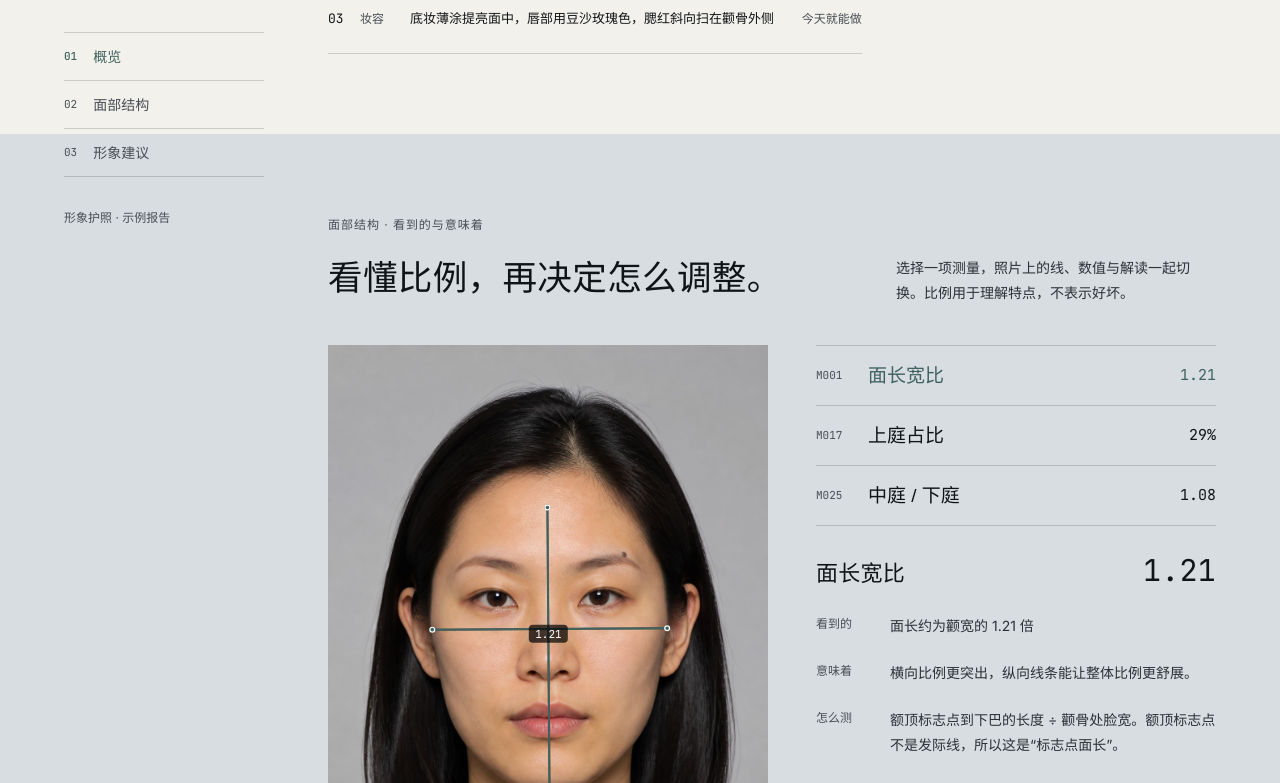
Test: S2 report slice critical path › switches the metric, native overlay and explanation together
(page scrolled)
Expected: the element with test id "selected-measurement" shows "1.21", [1143,550,1216,590]
Click the button "M017 上庭占比 29%": (906, 435) [816,406,1216,466]
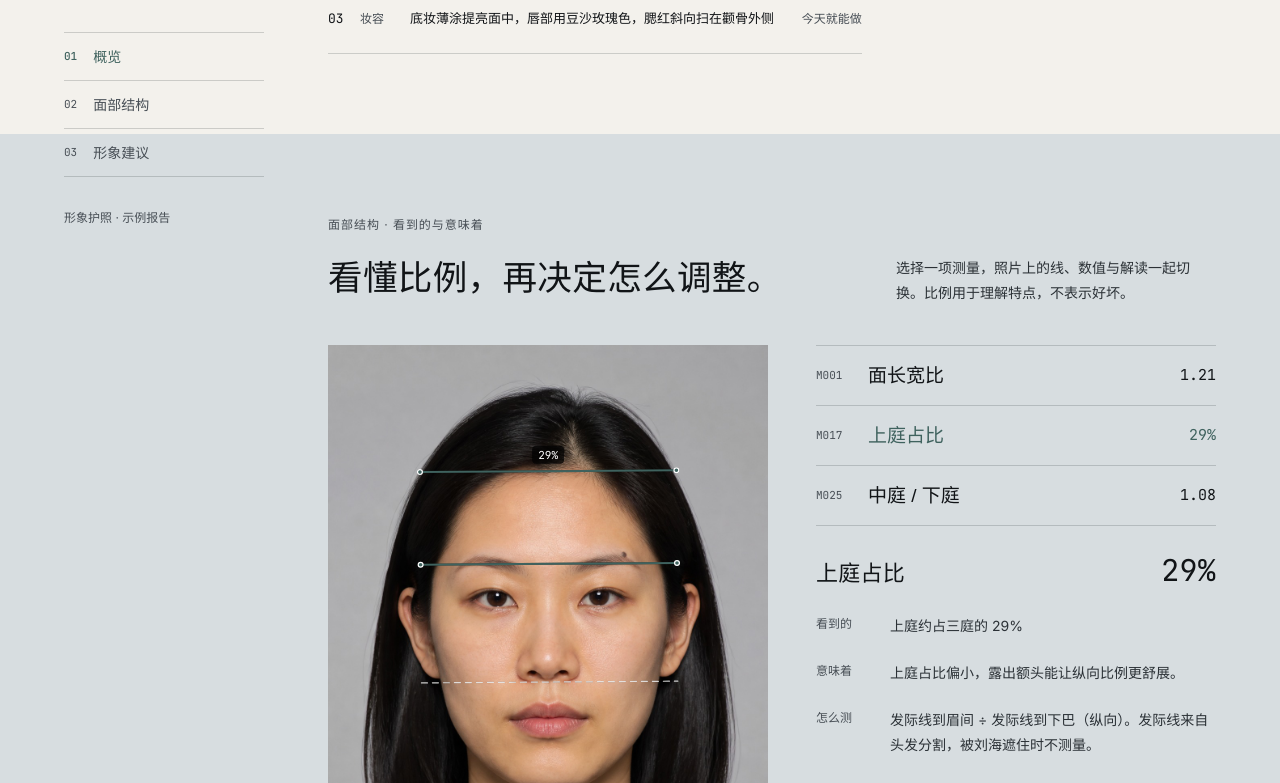
Expected: the element with test id "selected-measurement" shows "29%", [1161,550,1216,590]
Click the button "M025 中庭 / 下庭 1.08": (914, 495) [816,466,1216,526]
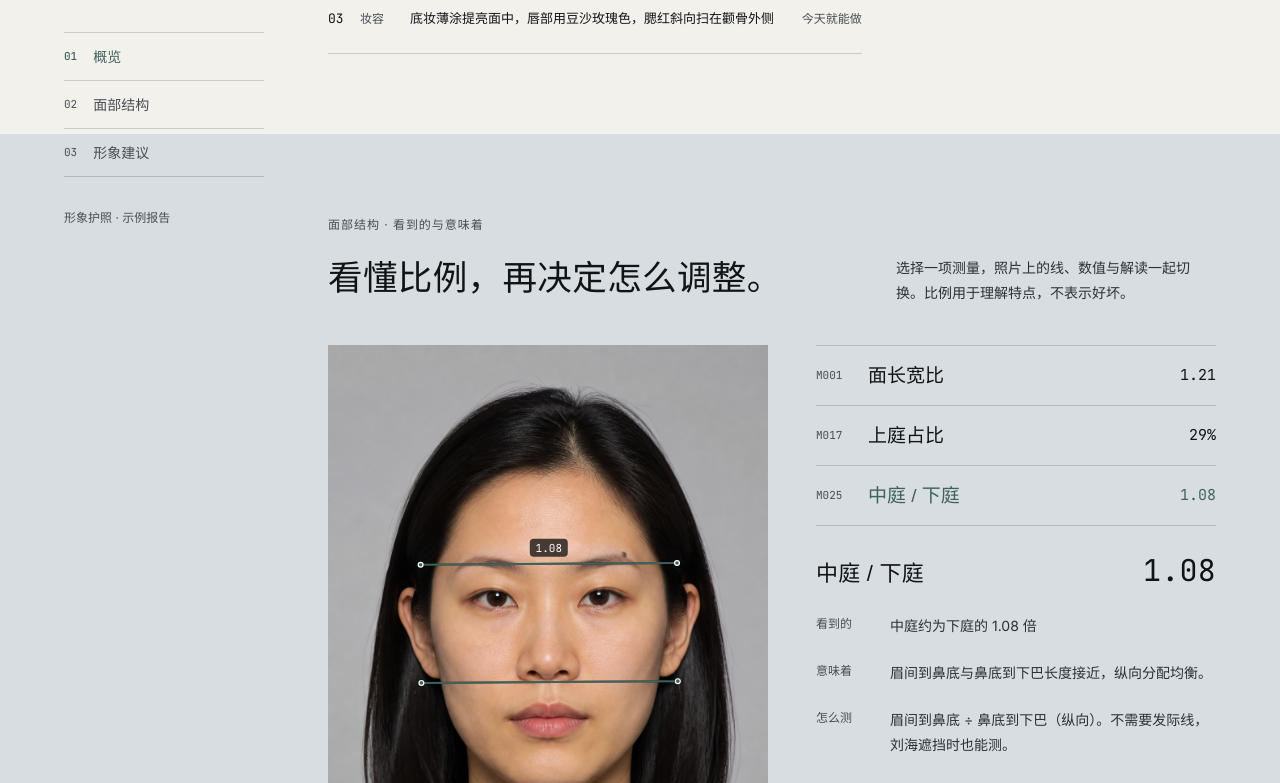
Expected: the element with test id "selected-measurement" shows "1.08", [1143,550,1216,590]
Click the button "M001 面长宽比 1.21": (906, 375) [816,346,1216,406]
(page scrolled)
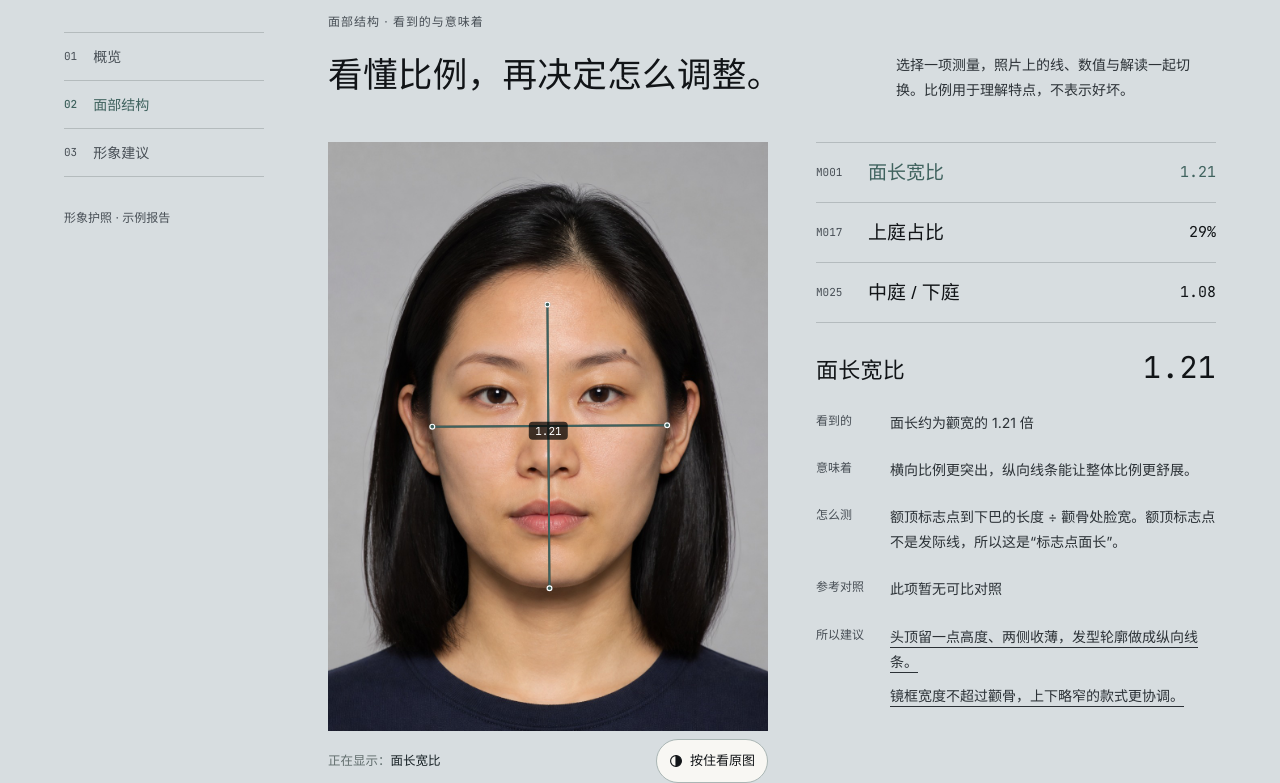
Expected: the element with test id "selected-measurement" shows "1.21", [1143,347,1216,387]
